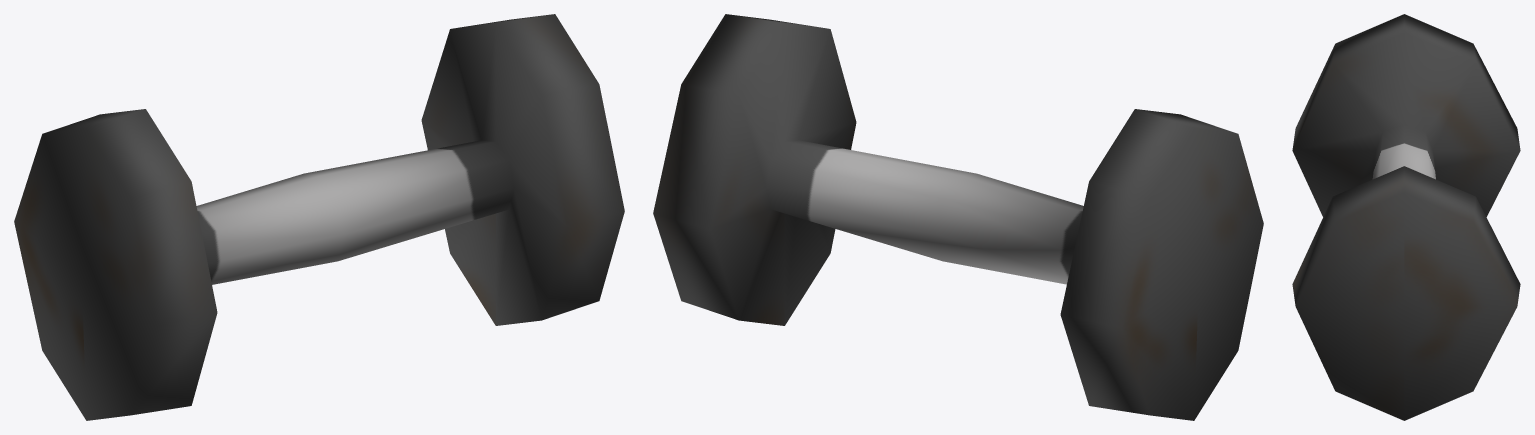
Rendered from Enemy6.fbx.
The picture shows the model from 3 angles, left to right: view 1: azimuth 30°, elevation 25°; view 2: azimuth 150°, elevation 25°; view 3: azimuth 270°, elevation 25°; orthographic projection. The views are drawn at different scales.
Parts seen in each view (by area): view 1: pCube1; view 2: pCube1; view 3: pCube1.
Boxes of the visible parts, box(x1,y1,x2,y2) form: pCube1: box(14, 14, 624, 420); pCube1: box(653, 14, 1263, 420); pCube1: box(1292, 14, 1520, 420).
Size of the model in its own units: 3585 by 2167 by 1897.
1 material, 1 textured.
